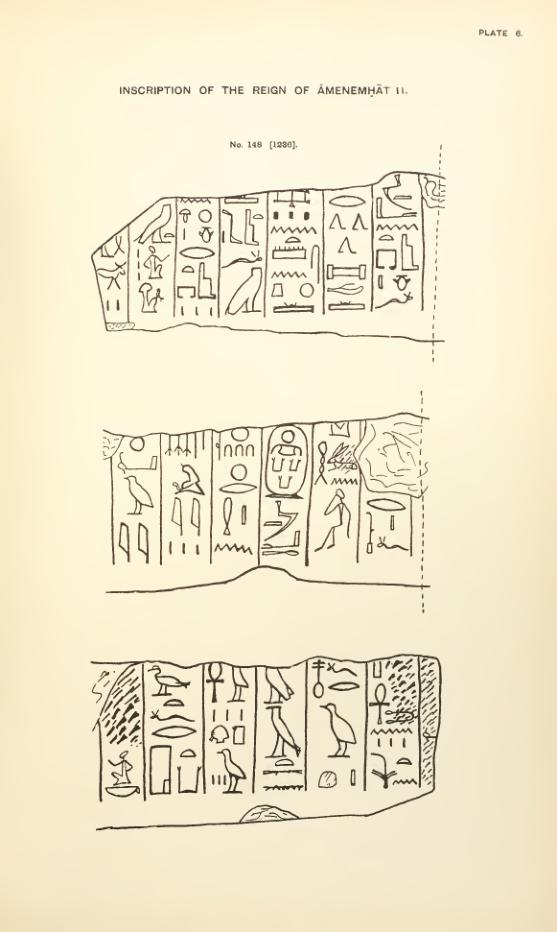circle: (265, 422, 309, 501)
